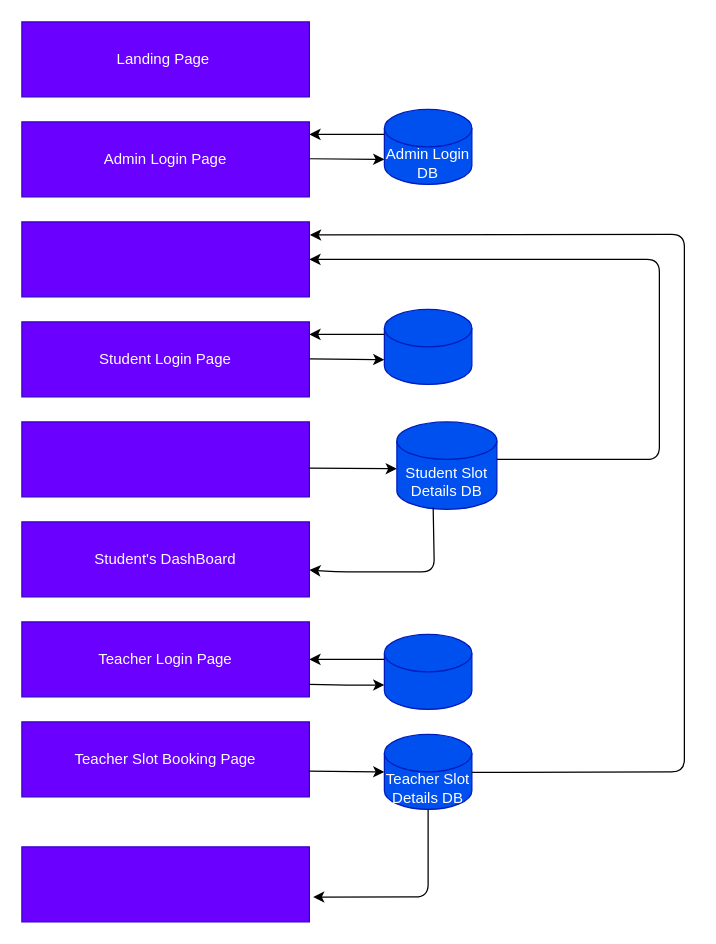
This 716x944 diagram has some shape labels left out. The box of each missing label's shape, as (x1, y1, x2, y2) in pixels:
Admin Home Page, Slot Allocation Pages , Slot View Page: (21, 221, 309, 297)
Student Login DB: (383, 308, 472, 384)
Student Slot Booking Page: (21, 421, 309, 497)
Teacher Login DB: (383, 633, 472, 709)
Teacher's DashBoard: (21, 846, 309, 922)
